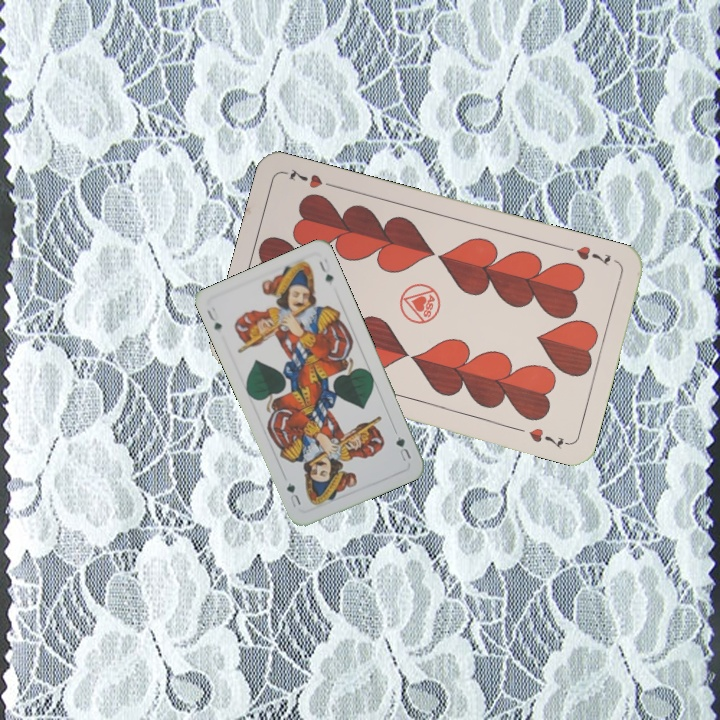GU: (392, 432, 414, 465), (203, 302, 224, 333)
H7: (560, 241, 614, 268)
